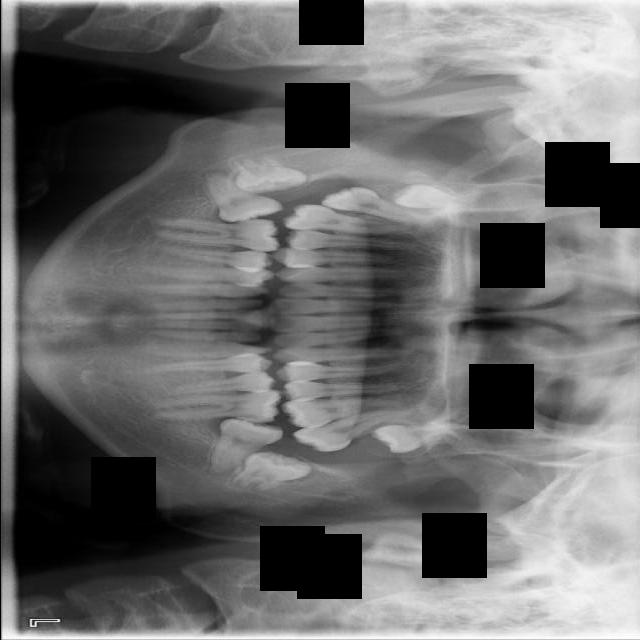3M ESPE Implant: (388, 181, 481, 216)
73: (24, 624, 28, 628)
BioHorizons Implant: (288, 398, 426, 461)
BioLife Implant: (371, 423, 473, 453)
Biomet 3i Implant: (219, 437, 312, 503)
Blue Sky Bio Implant: (190, 395, 286, 486)
Caries: (318, 179, 438, 231)
Implant: (204, 169, 283, 224)
Keystone Dental Implant: (230, 144, 308, 195)
